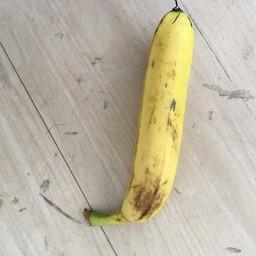Banana Ripe: (112, 0, 210, 255)
